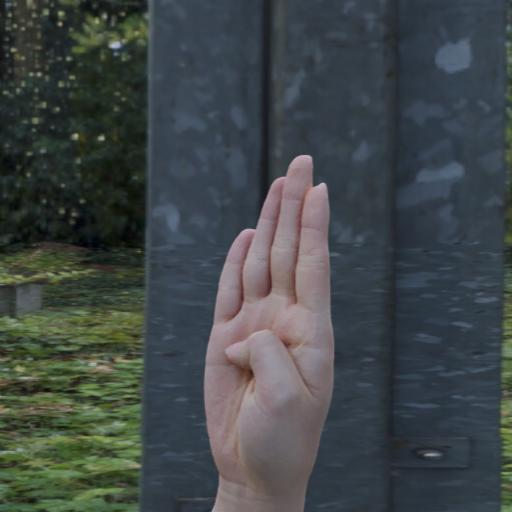B: (202, 151, 341, 482)
